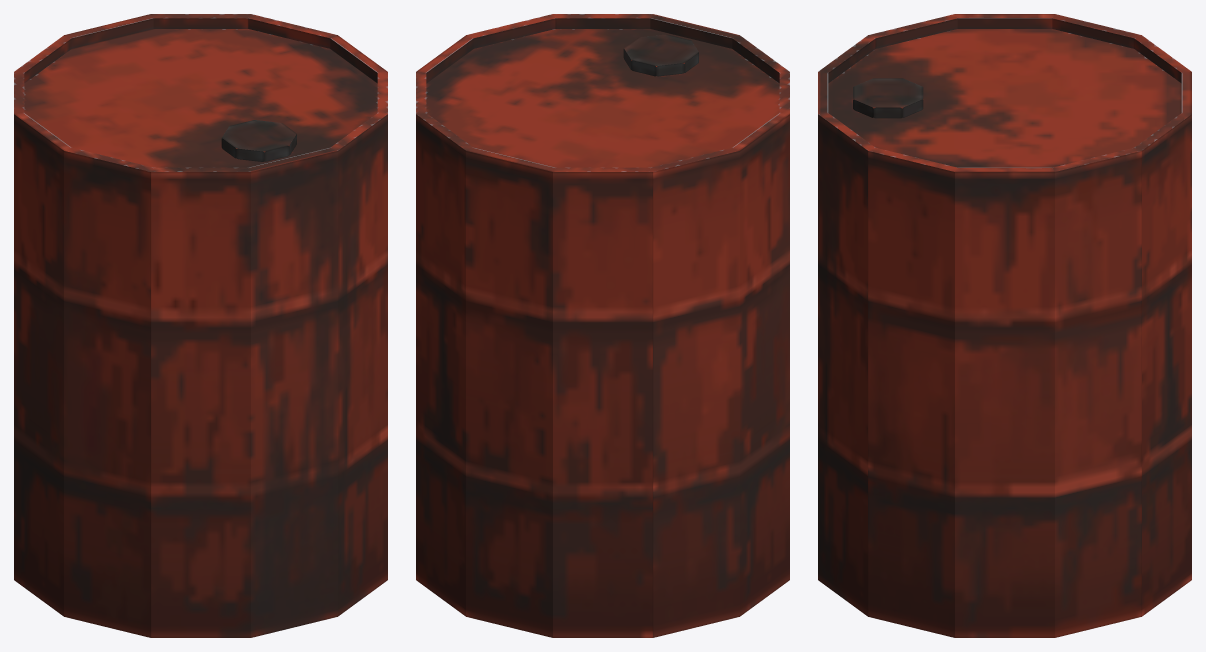
Rendered from OilBarrel.fbx.
The picture shows the model from 3 angles, left to right: view 1: azimuth 30°, elevation 25°; view 2: azimuth 150°, elevation 25°; view 3: azimuth 270°, elevation 25°; orthographic projection.
Visible parts, largest first — view 1: Base, LidPlane, Cap; view 2: Base, LidPlane, Cap; view 3: Base, LidPlane, Cap.
Boxes of the visible parts, left/top/right/bottom form: Base: left=14, top=14, right=387, bottom=637; LidPlane: left=24, top=29, right=377, bottom=167; Cap: left=221, top=120, right=296, bottom=161; Base: left=416, top=14, right=789, bottom=637; LidPlane: left=426, top=29, right=779, bottom=167; Cap: left=623, top=34, right=698, bottom=76; Base: left=818, top=14, right=1191, bottom=637; LidPlane: left=828, top=29, right=1181, bottom=167; Cap: left=853, top=78, right=923, bottom=118.
Size of the model in its own units: 200 by 275 by 200.
Materials: 1 (1 with a texture image).
